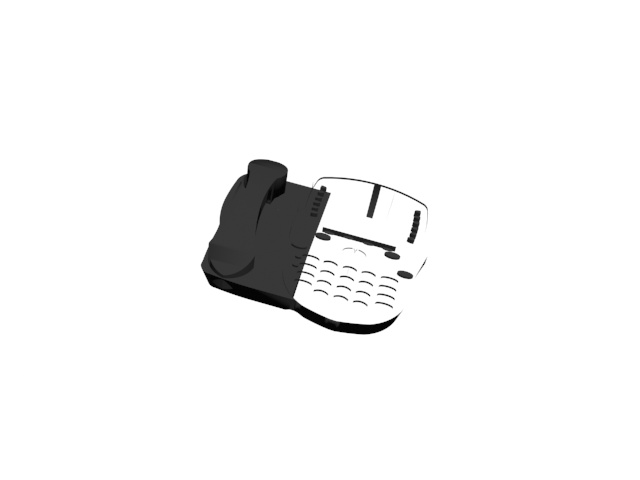phone: (201, 153, 432, 336)
